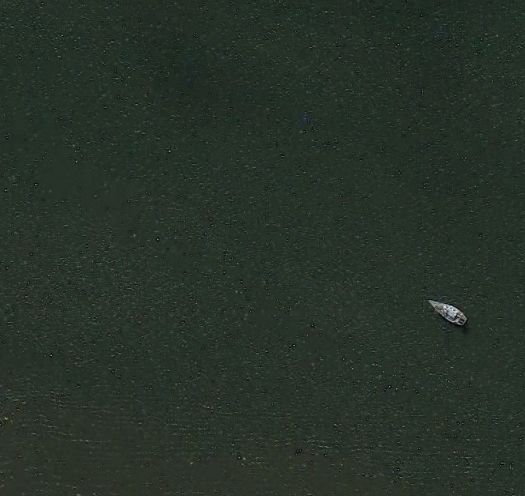boat: (425, 298, 469, 327)
